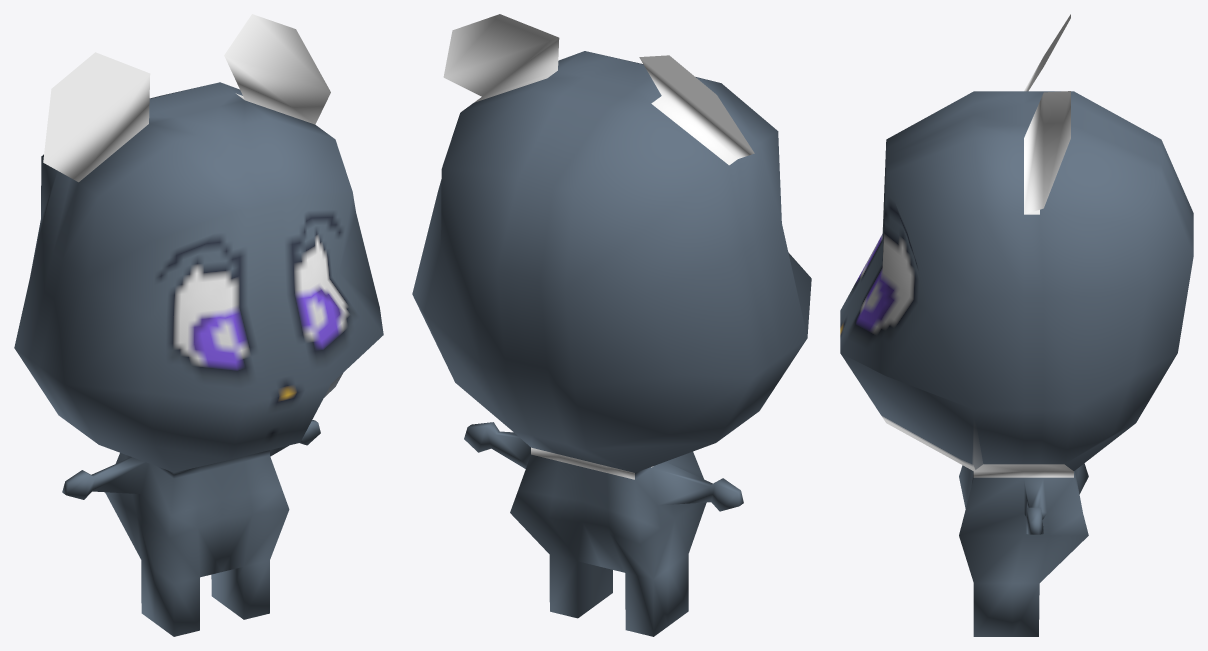
The model's file is catown.glb.
The picture shows the model from 3 angles, left to right: view 1: azimuth 30°, elevation 25°; view 2: azimuth 150°, elevation 25°; view 3: azimuth 270°, elevation 25°; orthographic projection. The views are drawn at different scales.
Visible parts, largest first — view 1: Cube; view 2: Cube; view 3: Cube.
Part boxes in pixels (x1=…): Cube: x1=14, y1=14, x2=383, y2=636; Cube: x1=412, y1=14, x2=811, y2=636; Cube: x1=840, y1=14, x2=1193, y2=636.
Size of the model in its own units: 3.2 by 5.39 by 3.08.
1 material, 1 textured.
